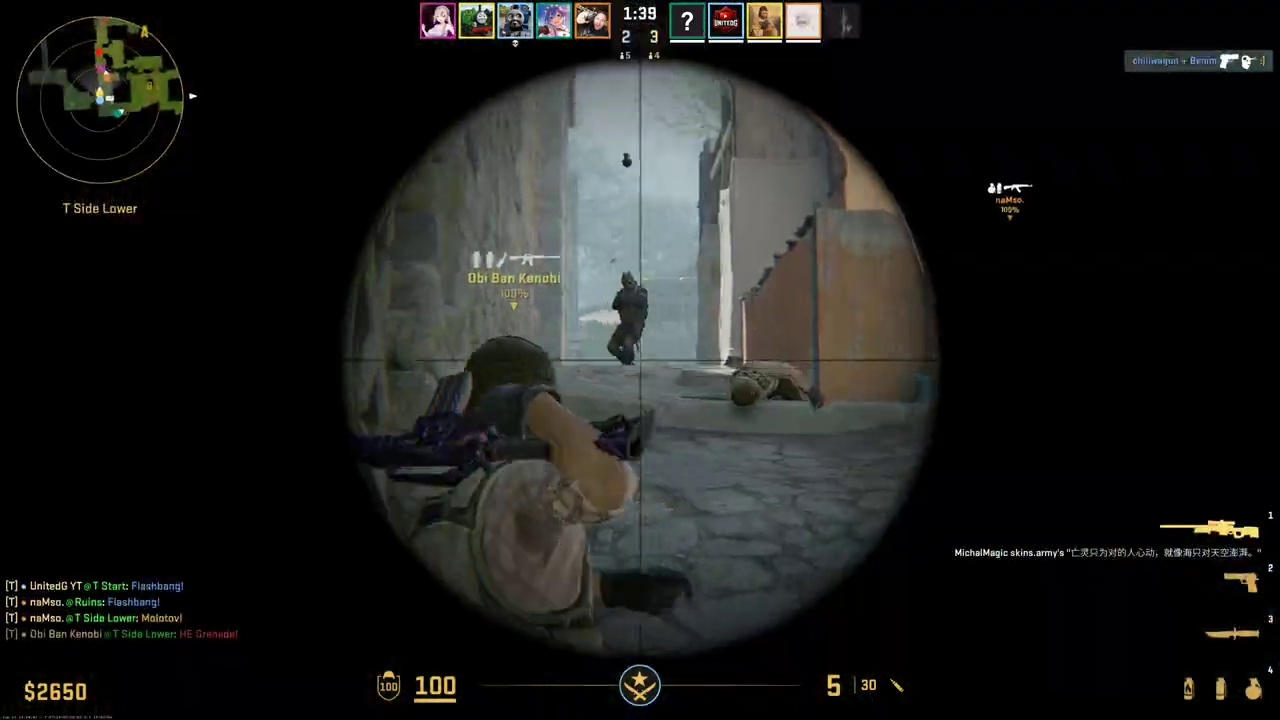CT: (609, 271, 648, 366)
Terrorist: (392, 339, 603, 654)
